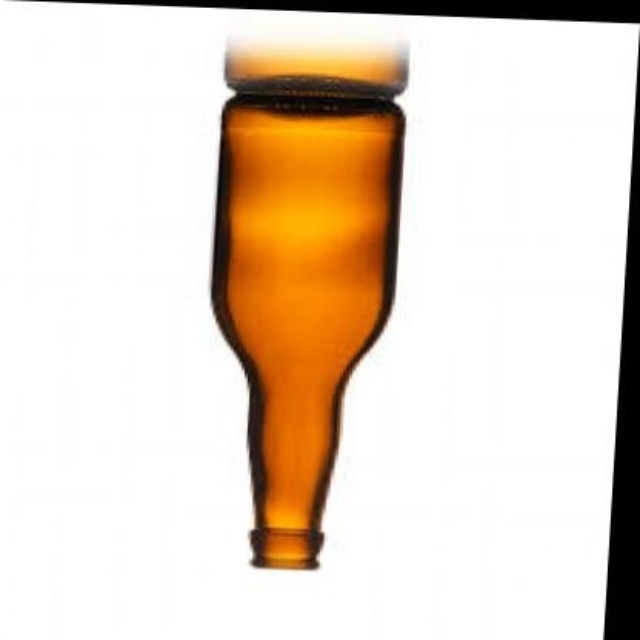trash: (212, 43, 406, 568)
